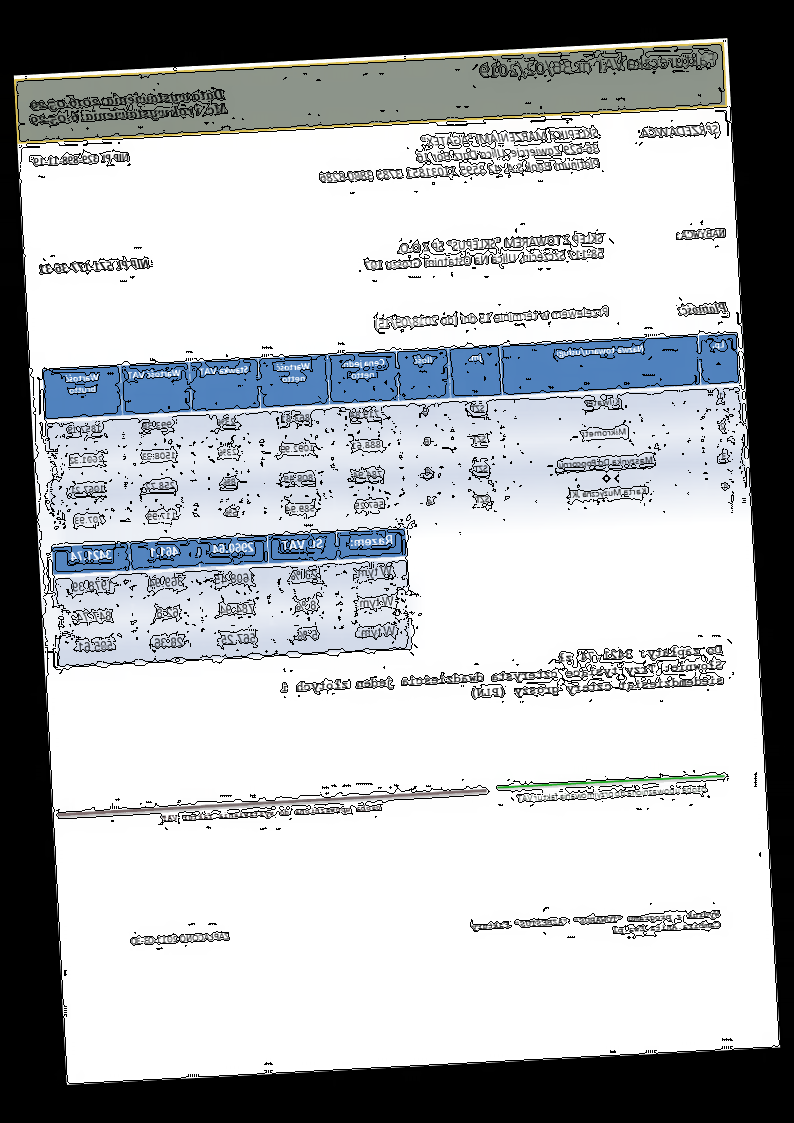Table: (43, 332, 748, 544), (52, 527, 412, 669)
TextBox: (275, 641, 727, 712), (315, 123, 605, 190), (361, 230, 607, 274), (466, 908, 725, 946), (26, 84, 231, 131), (477, 47, 720, 82), (372, 305, 611, 332), (160, 801, 384, 825), (515, 783, 710, 805), (38, 256, 152, 277), (33, 148, 133, 171), (128, 928, 232, 948), (636, 120, 724, 143), (674, 225, 729, 244), (676, 299, 730, 317)
